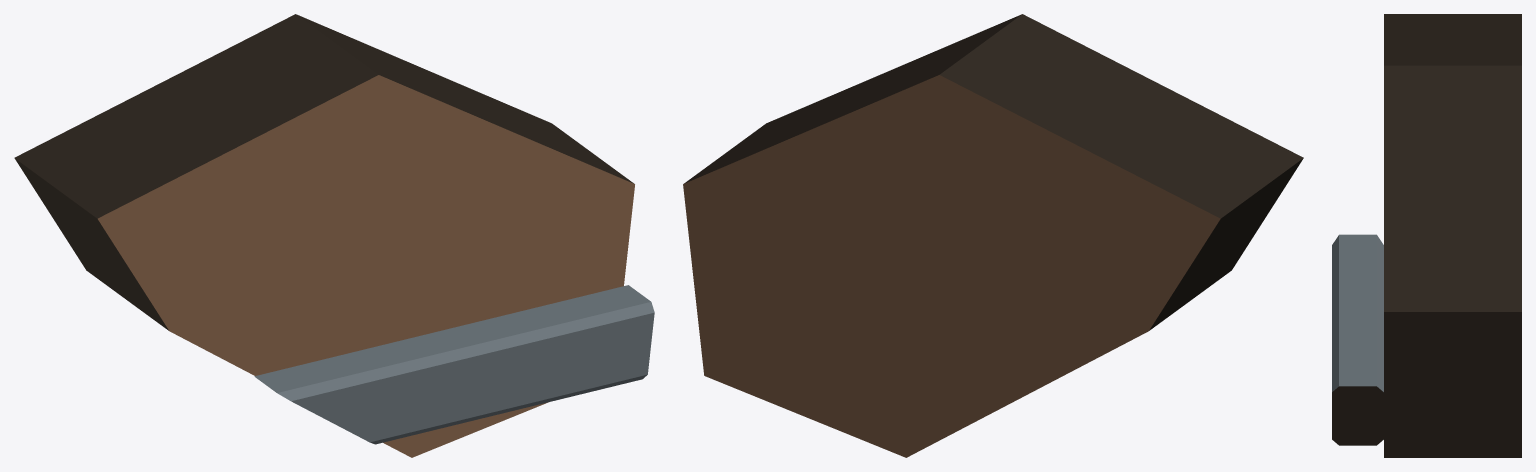
File: SM_DoorShard_02_53.fbx
3 renders of one model, left to right at view 1: azimuth 30°, elevation 25°; view 2: azimuth 150°, elevation 25°; view 3: azimuth 270°, elevation 25°, orthographic. The views are drawn at different scales.
Parts seen in each view (by area): view 1: SM_DoorShard_02_53; view 2: SM_DoorShard_02_53; view 3: SM_DoorShard_02_53.
Part boxes in pixels (x1,y1,x2,y2): SM_DoorShard_02_53: (14, 14, 654, 457); SM_DoorShard_02_53: (683, 14, 1303, 457); SM_DoorShard_02_53: (1332, 14, 1521, 457).
Size of the model in its own units: 59.71 by 22 by 41.5.
